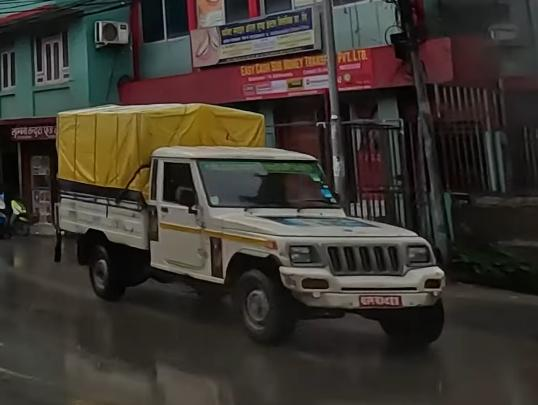transport_vehicle: (43, 92, 454, 361)
